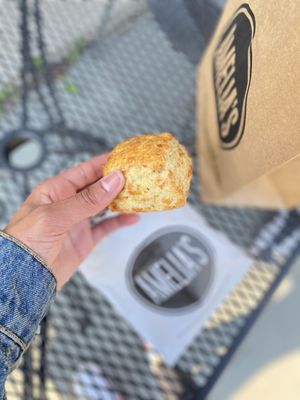pizza: (0, 148, 139, 399)
